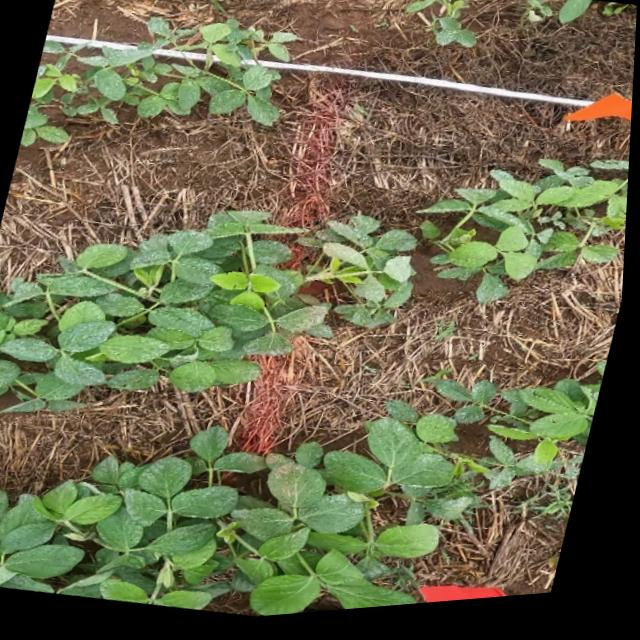grassy_weed: (525, 482, 580, 527)
soy_plant: (0, 409, 483, 620), (0, 214, 420, 412), (22, 19, 296, 145), (429, 166, 632, 309), (475, 388, 606, 495), (440, 387, 503, 430), (528, 1, 593, 32), (408, 0, 472, 25), (437, 26, 478, 55)
